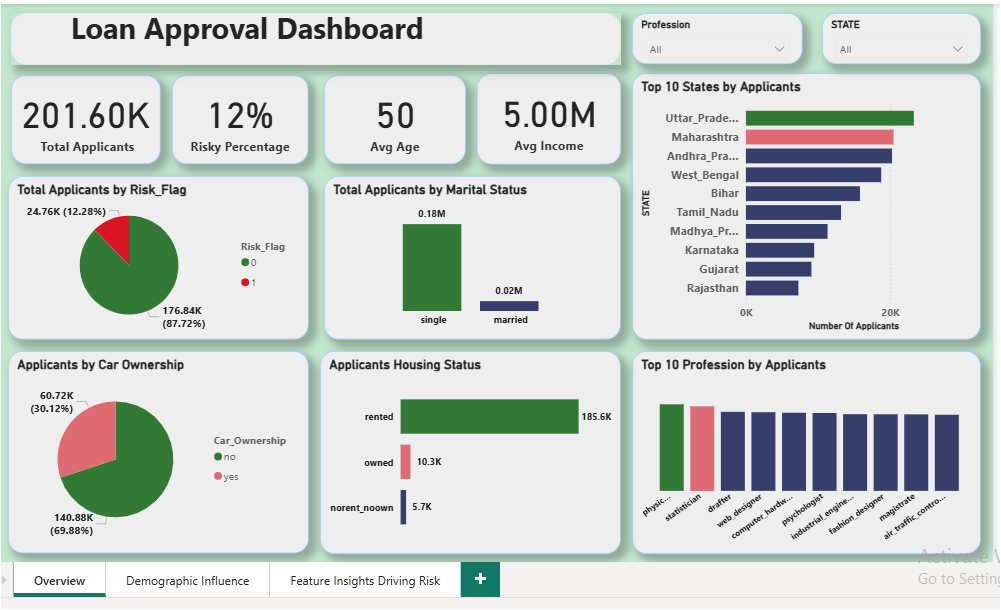

What the dashboard file says about the page in this screenshot:
{"tool":"powerbi","page":{"name":"Overview","canvas":[1280,720],"ordinal":0},"visuals":[{"type":"card","fields":{"Values":["CountNonNull(train_cleaned.Id)"]},"box":[12.8,92.1,192.8,114.8],"z":0},{"type":"card","fields":{"Values":["train_cleaned.Avg Age"]},"box":[416.7,92.1,182.8,114.8],"z":1000},{"type":"card","fields":{"Values":["train_cleaned.Risky Percentage"]},"box":[221.1,92.1,175.7,114.8],"z":2000},{"type":"card","fields":{"Values":["train_cleaned.Avg Income"]},"box":[613.7,89.3,185.7,117.6],"z":3000},{"type":"shape","box":[12.8,11.3,786.6,66.6],"z":4000},{"type":"textbox","box":[12.8,0,694.5,65.2],"z":5000},{"type":"pieChart","title":"Total Applicants by Risk_Flag","fields":{"Category":["train_cleaned.Risk_Flag"],"Y":["CountNonNull(train_cleaned.Id)"]},"box":[8.5,222.5,388.3,211.2],"z":6000},{"type":"clusteredBarChart","title":"Top 10 States by Applicants ","fields":{"Y":["CountNonNull(train_cleaned.Id)"],"Category":["train_cleaned.STATE"]},"box":[814.8,89.5,450.1,344.1],"z":7000},{"type":"columnChart","title":"Total Applicants by Marital Status","fields":{"Category":["train_cleaned.Married/Single"],"Y":["CountNonNull(train_cleaned.Id)"]},"box":[416.7,222.5,382.7,211.2],"z":8000},{"type":"columnChart","title":"Top 10 Profession by Applicants","fields":{"Category":["train_cleaned.Profession"],"Y":["CountNonNull(train_cleaned.Id)"]},"box":[814.8,447.3,450.1,261.5],"z":9000},{"type":"pieChart","title":"Applicants by Car Ownership","fields":{"Y":["CountNonNull(train_cleaned.Id)"],"Category":["train_cleaned.Car_Ownership"]},"box":[8.5,447.9,388.3,260.8],"z":10000},{"type":"clusteredBarChart","title":"Applicants Housing Status","fields":{"Category":["train_cleaned.House_Ownership"],"Y":["CountNonNull(train_cleaned.Id)"]},"box":[411.5,447.3,388.1,261.5],"z":11000},{"type":"slicer","title":"STATE","fields":{"Values":["train_cleaned.STATE"]},"box":[1059.4,11.6,205.2,65.8],"z":12000},{"type":"slicer","title":"Profession","fields":{"Values":["train_cleaned.Profession"]},"box":[814.8,11,220.2,66.1],"z":13000}]}

Visuals, with their boxes on the page's 1280x720 design canvas (x1, y1, x2, y2). These are canvas units, not pixel positions in the 1001x610 screenshot, which may show the page scaled, cropped or inside an application window:
card - CountNonNull(train_cleaned.Id): (x1=13, y1=92, x2=206, y2=207)
card - train_cleaned.Avg Age: (x1=417, y1=92, x2=600, y2=207)
card - train_cleaned.Risky Percentage: (x1=221, y1=92, x2=397, y2=207)
card - train_cleaned.Avg Income: (x1=614, y1=89, x2=799, y2=207)
shape: (x1=13, y1=11, x2=799, y2=78)
textbox: (x1=13, y1=0, x2=707, y2=65)
"Total Applicants by Risk_Flag" pieChart: (x1=8, y1=222, x2=397, y2=434)
"Top 10 States by Applicants " clusteredBarChart: (x1=815, y1=90, x2=1265, y2=434)
"Total Applicants by Marital Status" columnChart: (x1=417, y1=222, x2=799, y2=434)
"Top 10 Profession by Applicants" columnChart: (x1=815, y1=447, x2=1265, y2=709)
"Applicants by Car Ownership" pieChart: (x1=8, y1=448, x2=397, y2=709)
"Applicants Housing Status" clusteredBarChart: (x1=412, y1=447, x2=800, y2=709)
"STATE" slicer: (x1=1059, y1=12, x2=1265, y2=77)
"Profession" slicer: (x1=815, y1=11, x2=1035, y2=77)
